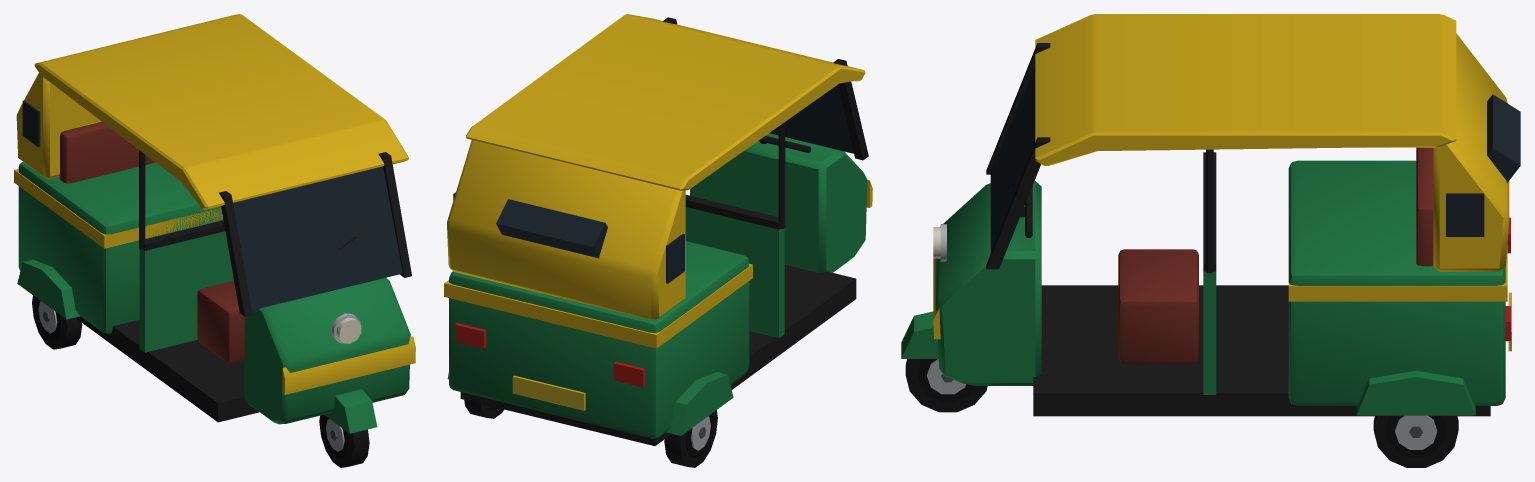
Rendered from auto.glb.
The picture shows the model from 3 angles, left to right: view 1: azimuth 30°, elevation 25°; view 2: azimuth 150°, elevation 25°; view 3: azimuth 270°, elevation 25°; orthographic projection. The views are drawn at different scales.
Parts seen in each view (by area): view 1: body, glass; view 2: body, glass; view 3: body, glass.
Boxes of the visible parts, x1,y1,x2,y2 form: body: [14, 14, 415, 467]; glass: [22, 100, 402, 310]; body: [444, 14, 872, 467]; glass: [453, 85, 853, 283]; body: [901, 14, 1511, 467]; glass: [990, 67, 1520, 253].
Bounding box in the file's own units: 1.44 × 1.73 × 2.91.
